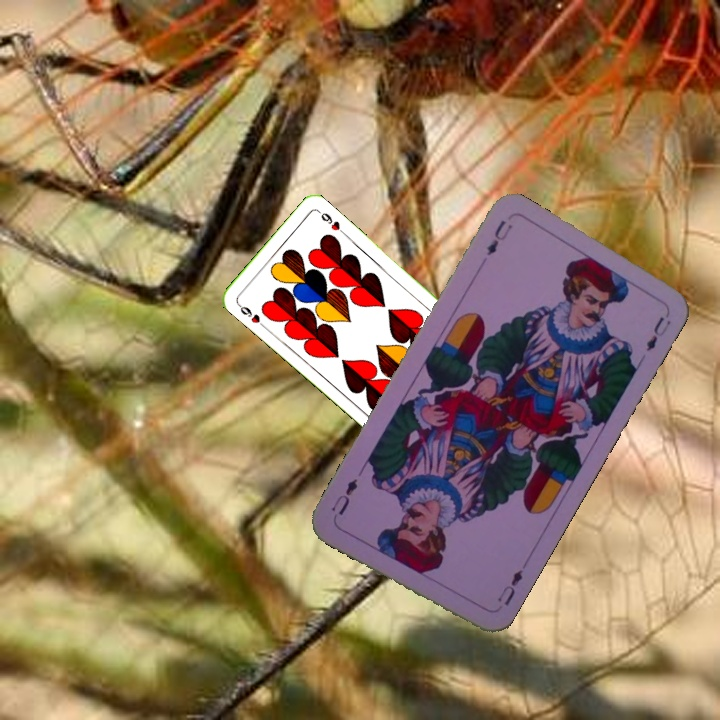EU: (493, 565, 526, 609), (482, 216, 515, 259)
H9: (233, 299, 267, 329)
